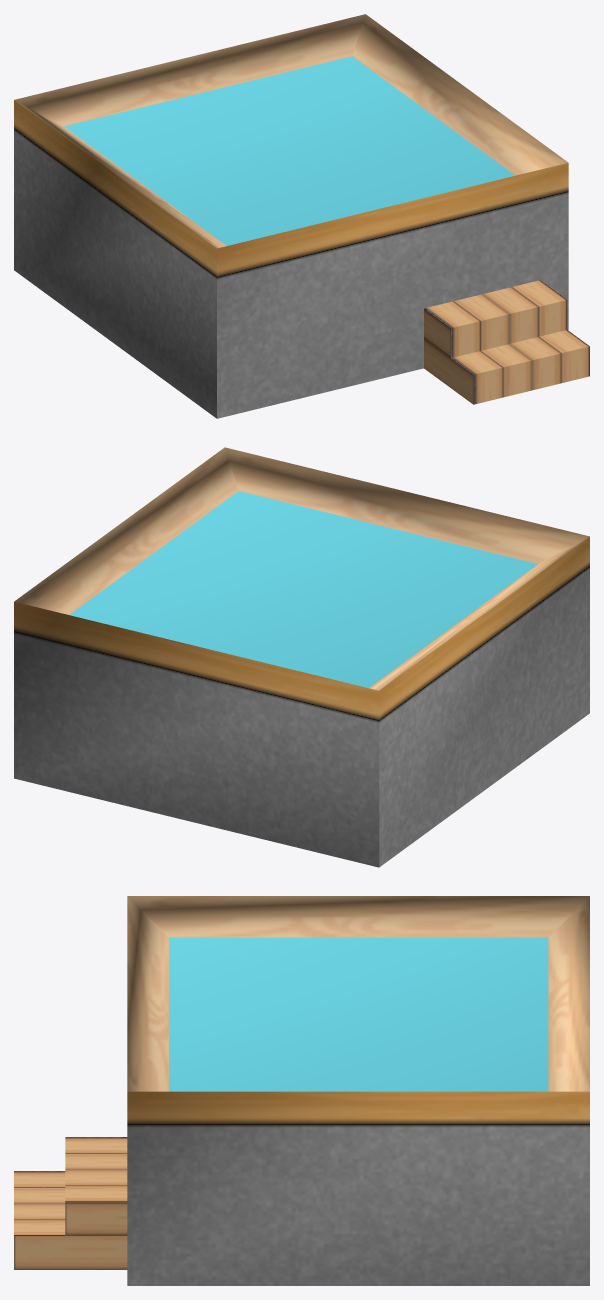
The model's file is Hot_Tub.fbx.
The picture shows the model from 3 angles, top to bottom: view 1: azimuth 30°, elevation 25°; view 2: azimuth 150°, elevation 25°; view 3: azimuth 270°, elevation 25°; orthographic projection. The views are drawn at different scales.
Parts seen in each view (by area): view 1: Hot_Tub_1; view 2: Hot_Tub_1; view 3: Hot_Tub_1.
Part boxes in pixels (box(x1,y1,x2,y2)): Hot_Tub_1: box(14, 14, 589, 418); Hot_Tub_1: box(14, 447, 589, 867); Hot_Tub_1: box(14, 896, 589, 1285).
Size of the model in its own units: 244 by 113 by 304.
